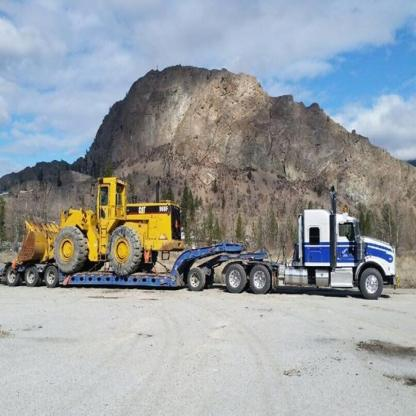bull_dozer/loader/grader: (20, 176, 184, 274)
